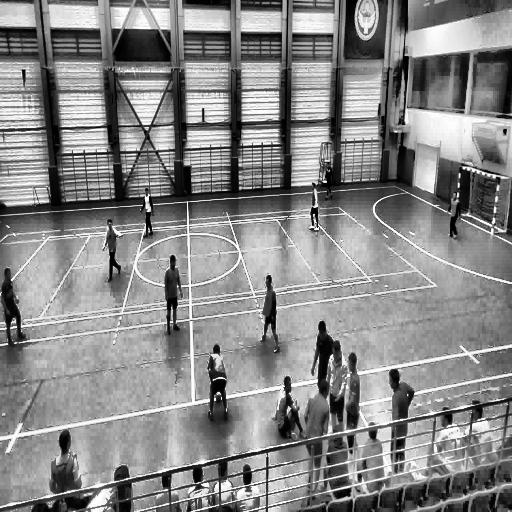ball: (216, 391, 222, 403)
player: (301, 375, 330, 496), (388, 368, 414, 467), (430, 407, 464, 481), (354, 422, 386, 492), (0, 266, 26, 345), (50, 430, 82, 494), (465, 400, 494, 470), (274, 375, 303, 444), (207, 342, 231, 422), (342, 351, 360, 456), (311, 320, 335, 395), (326, 420, 349, 498), (326, 340, 345, 424), (260, 273, 280, 350), (164, 255, 183, 335), (211, 457, 235, 512), (237, 459, 261, 512), (103, 219, 122, 282), (154, 470, 182, 512), (187, 464, 210, 512), (141, 187, 155, 235), (447, 190, 459, 240), (308, 180, 319, 230), (324, 162, 333, 199)
